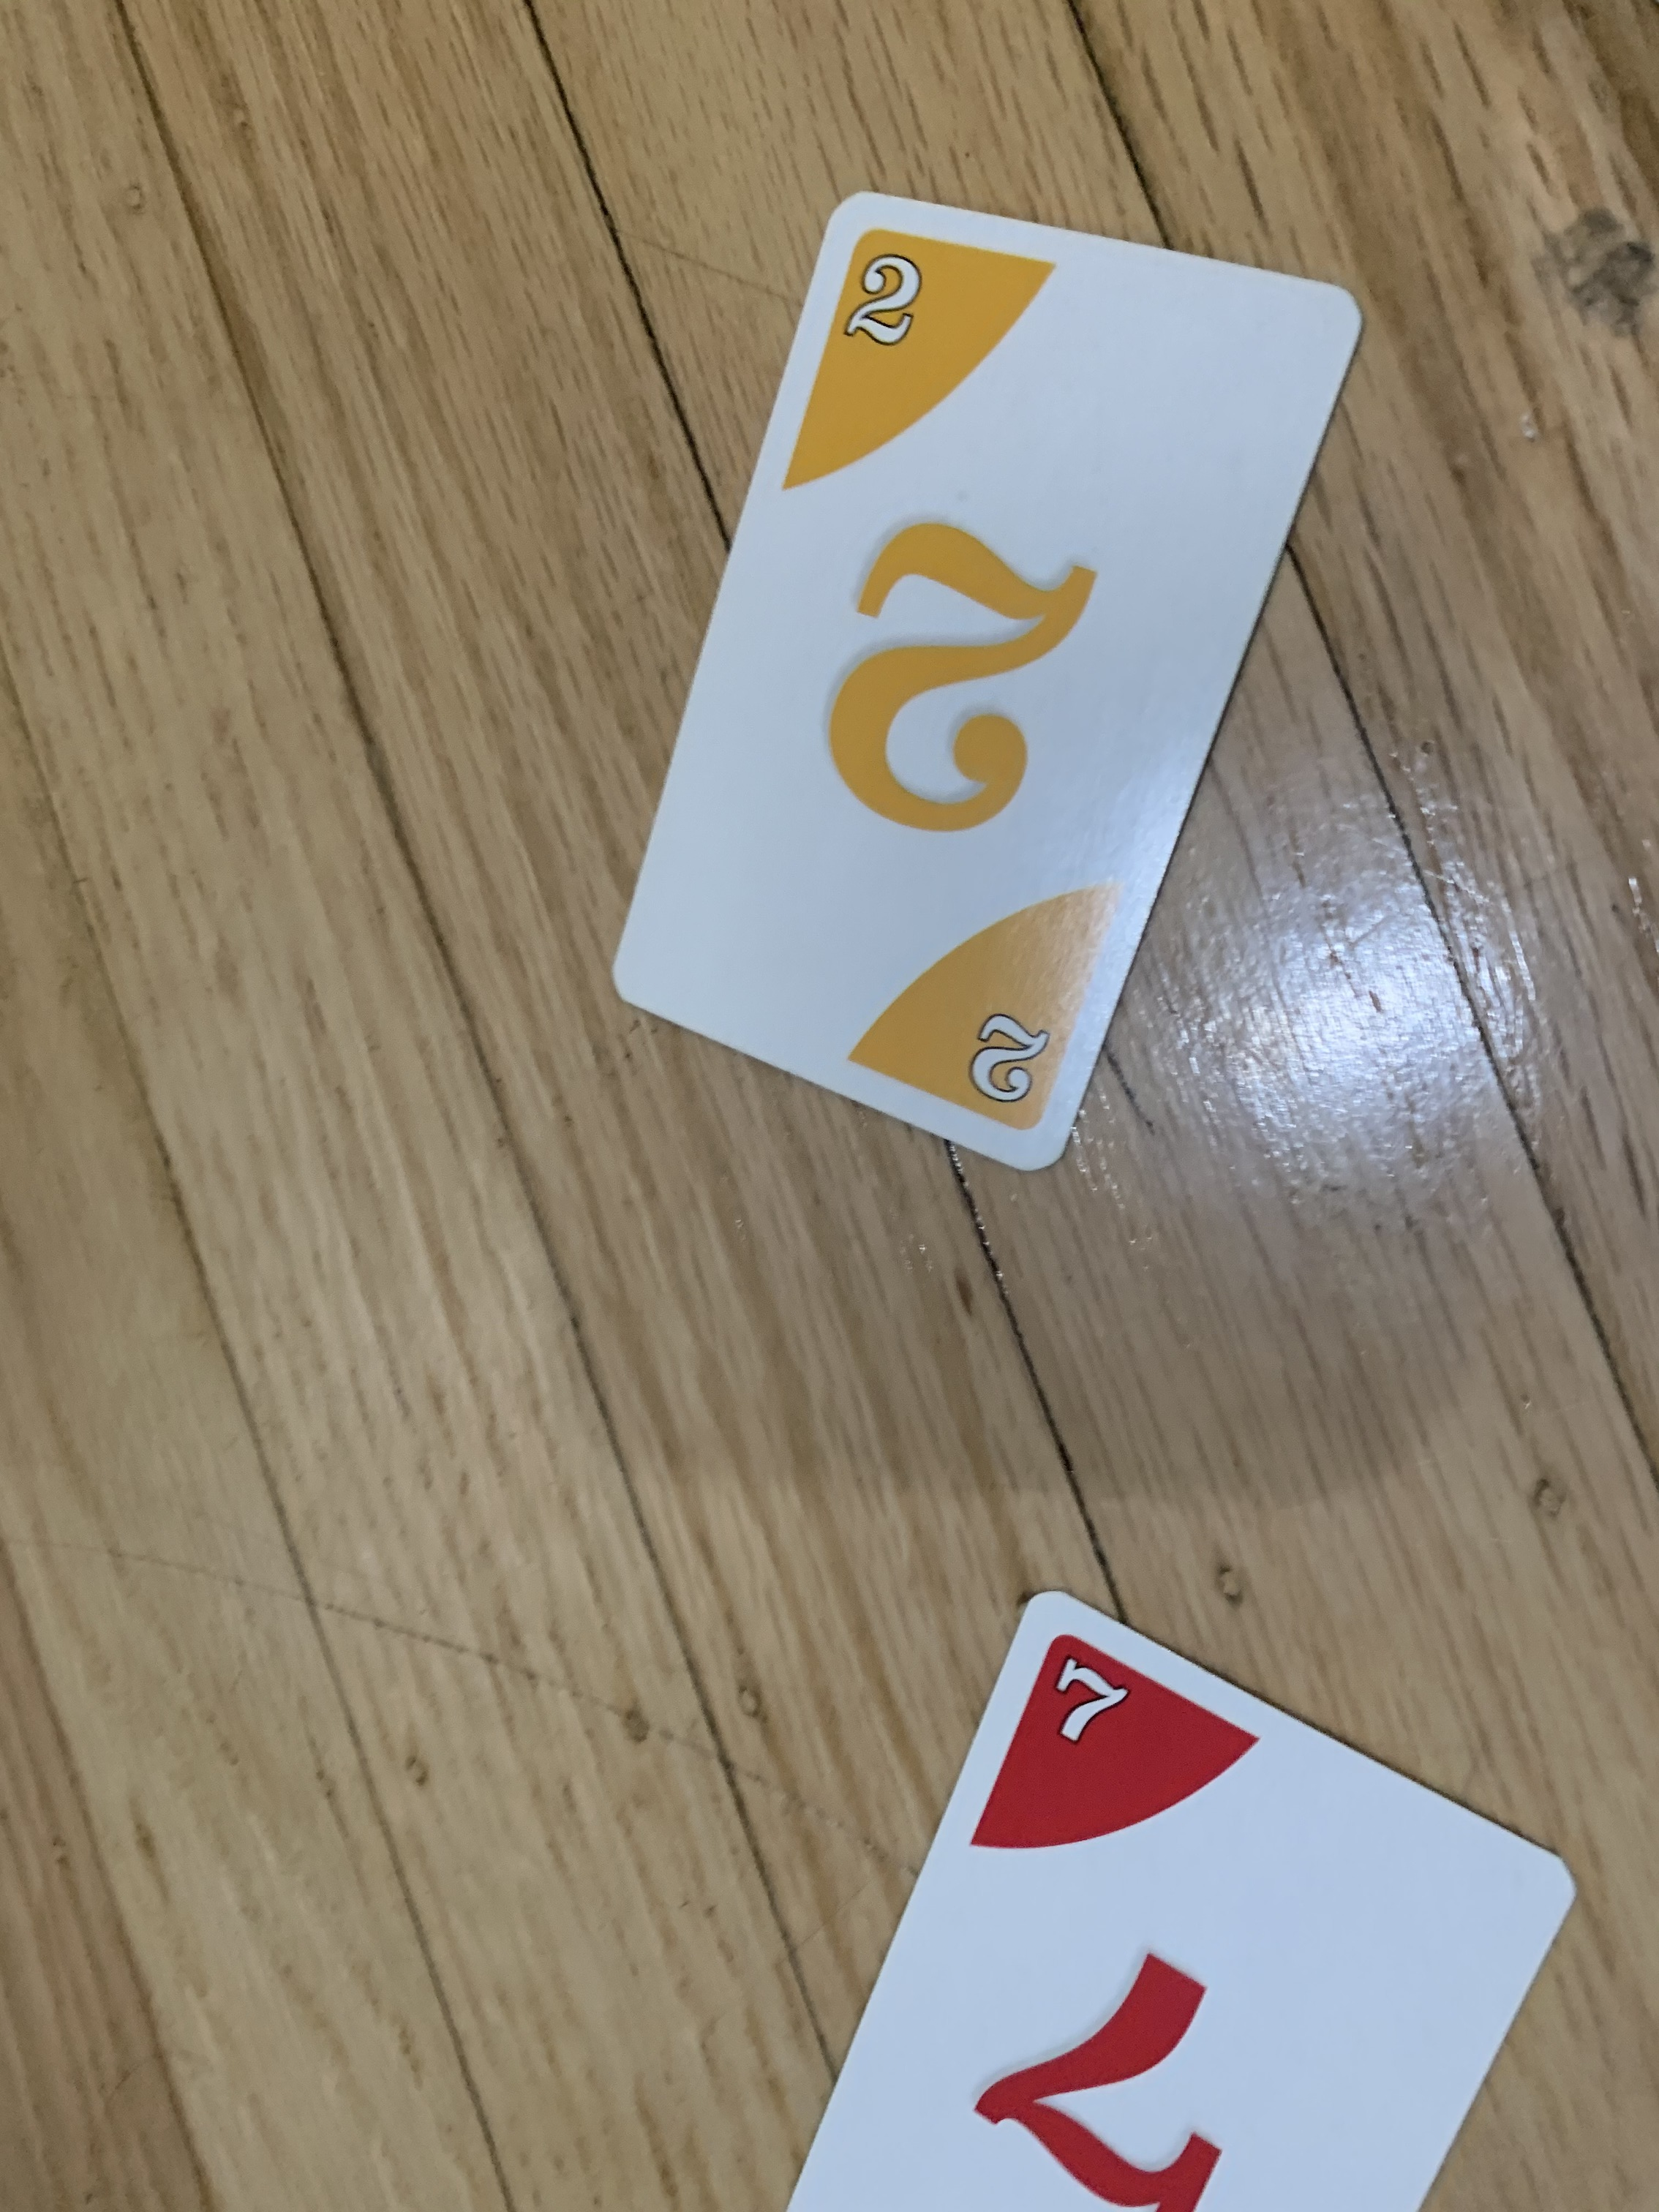two: (584, 178, 1377, 1207)
